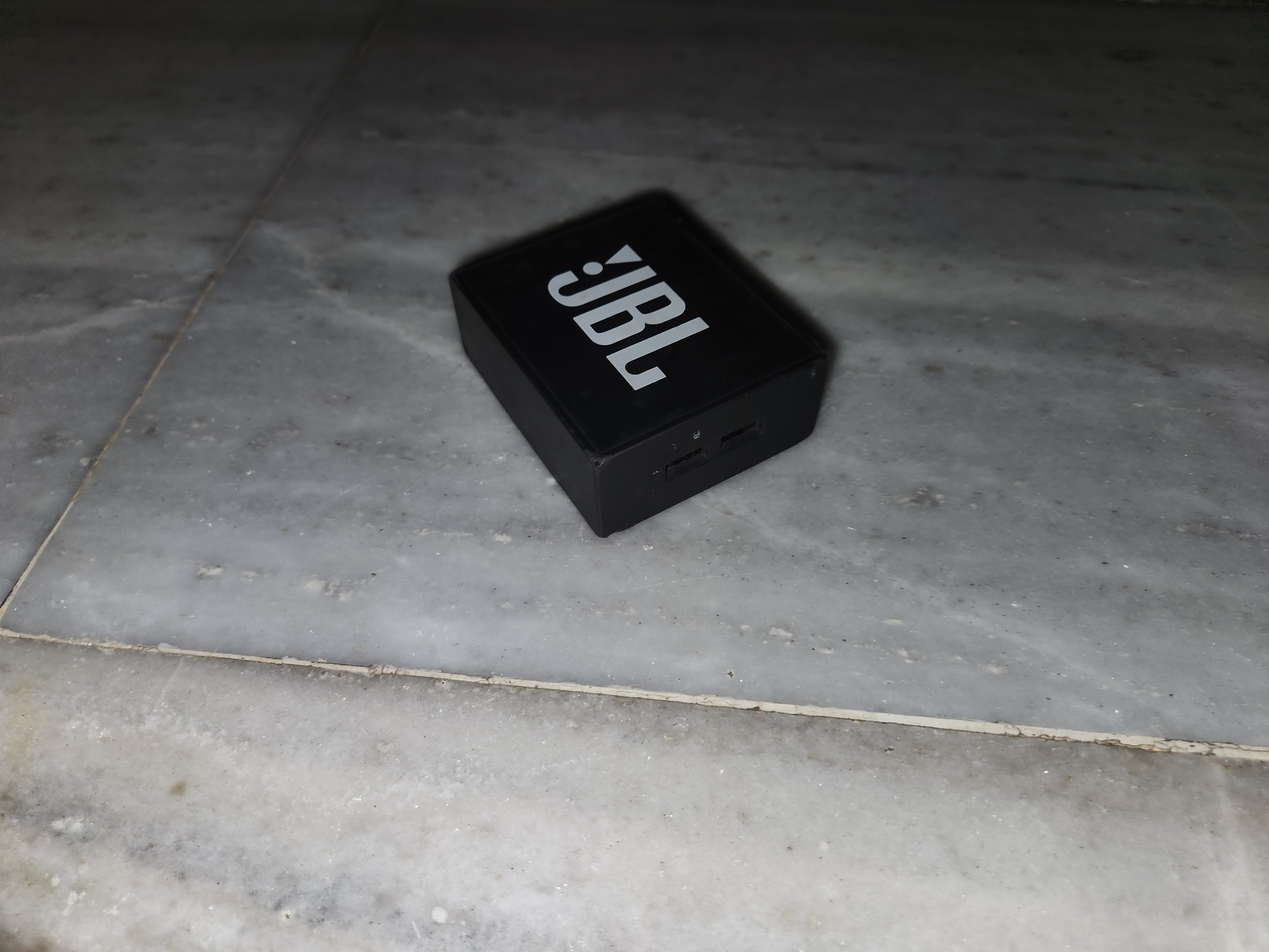speaker: (444, 183, 840, 541)
